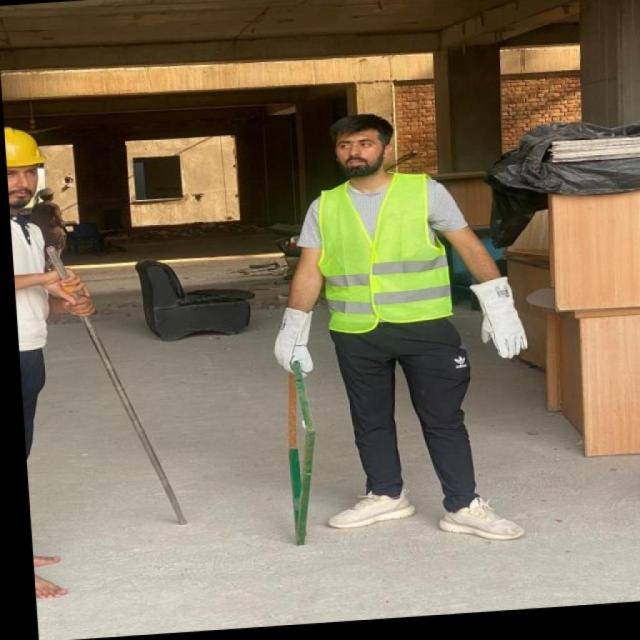Gloves-Detection: (472, 274, 530, 363), (264, 302, 314, 368)
